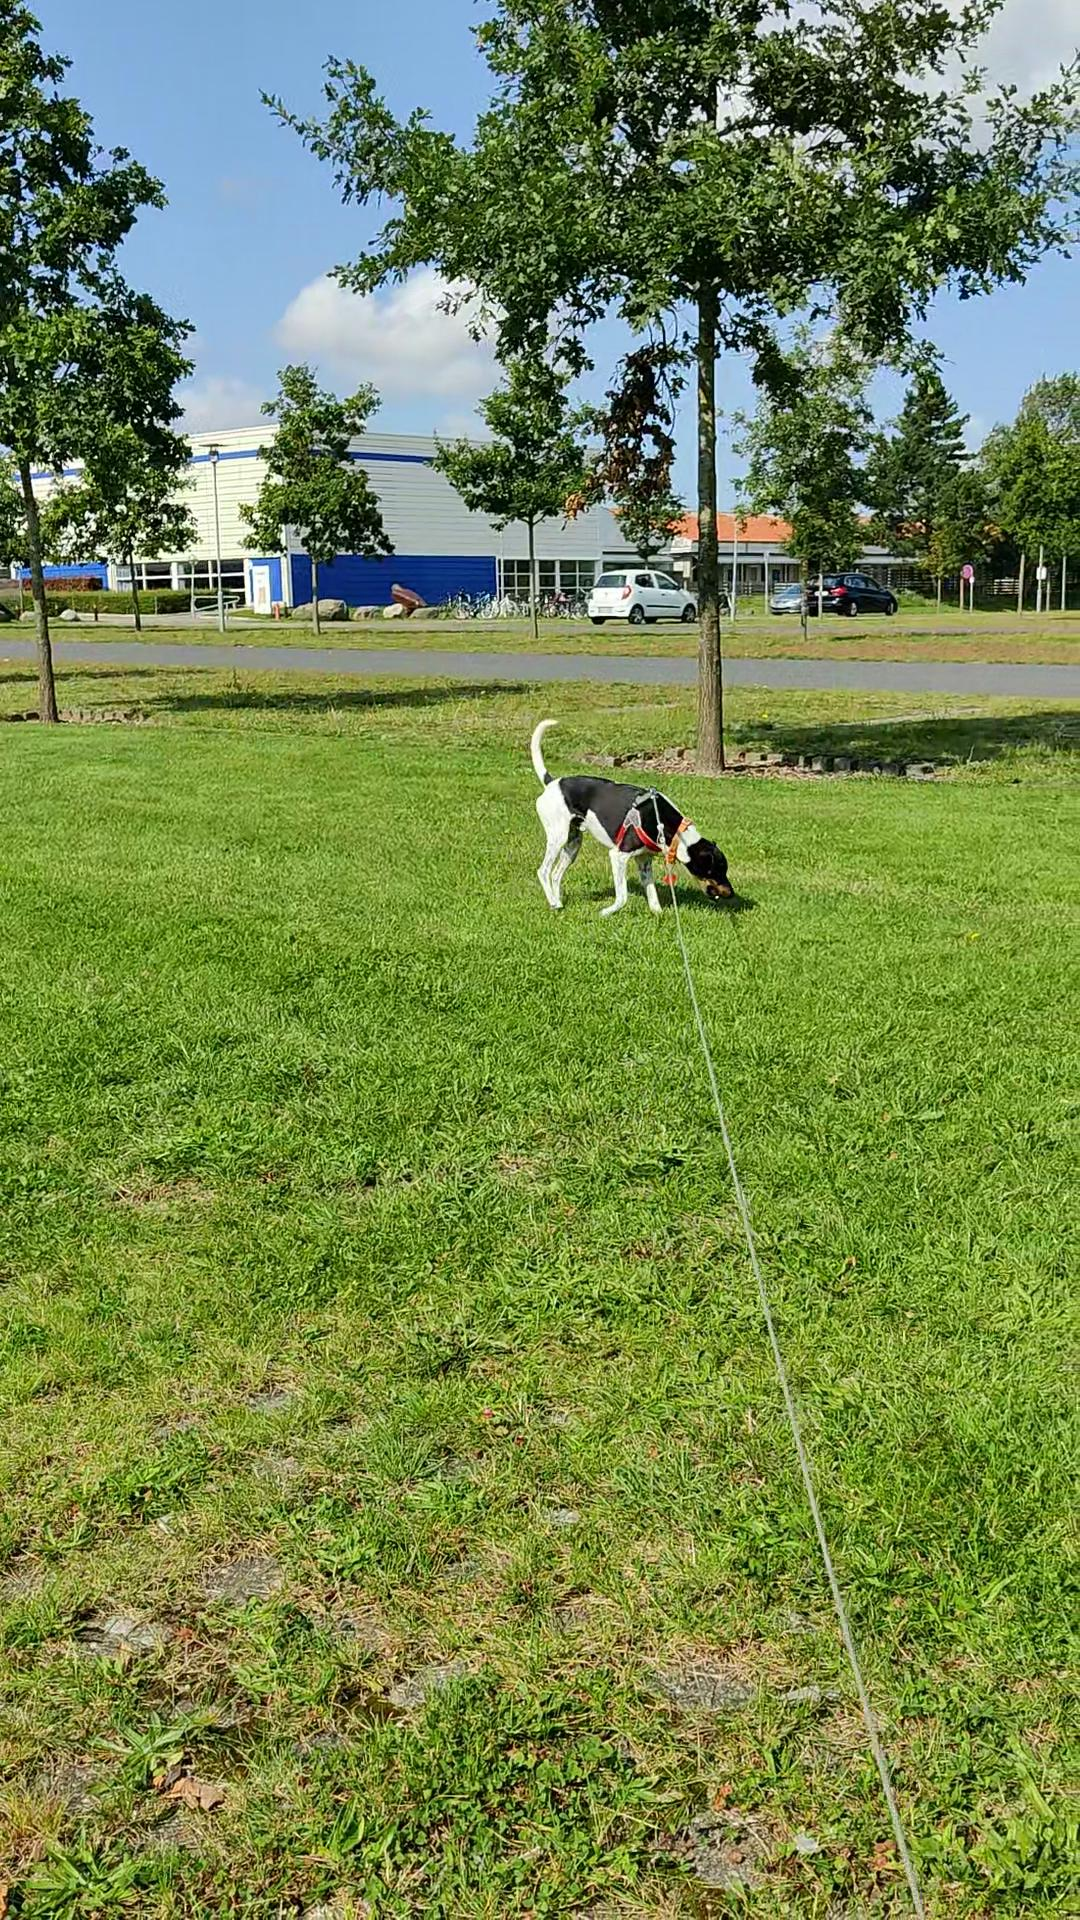Dog: (524, 713, 735, 920)
